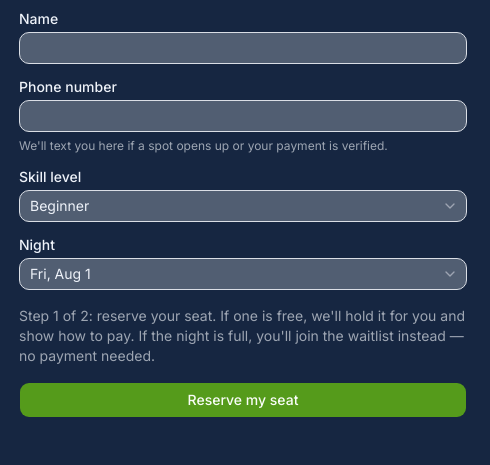
Test: PublicOpenPlayRegistrationForm — reserve first, pay second › disables registration the instant a FULL night is picked when the waitlist is off
Click the dropdown named "night": point(60, 274) [19, 258, 467, 290]
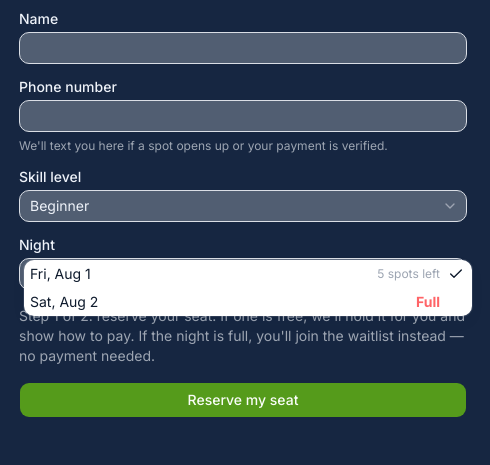
Click the option "Sat, Aug 2 Full": point(64, 302) [24, 288, 472, 316]
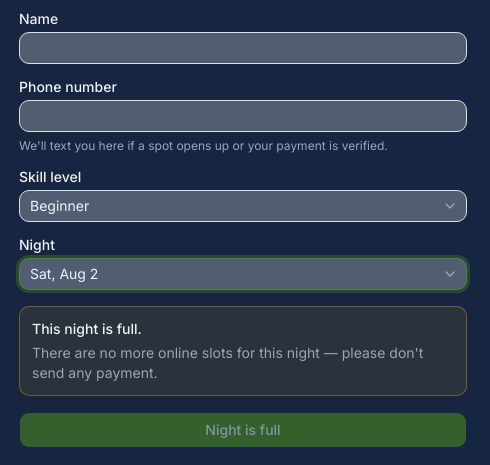
Expected: the text "This night is full." is shown, [32, 320, 142, 337]
Expected: the text "no more online slots" is shown, [32, 344, 423, 381]
Expected: the button "Night is full" is disabled, [19, 412, 467, 448]
